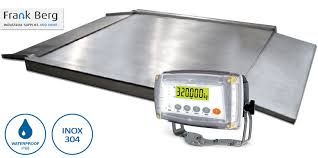Industrial Scale: (1, 9, 318, 147)
